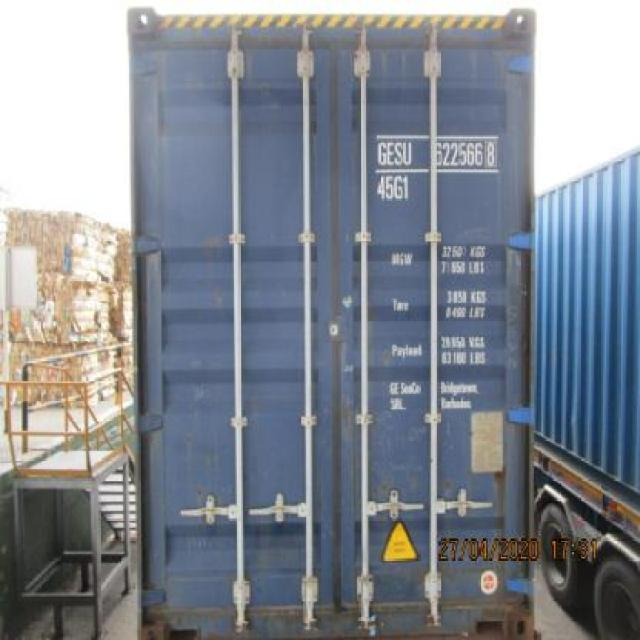ISO: (374, 176, 412, 199)
container_number: (374, 140, 497, 168)
